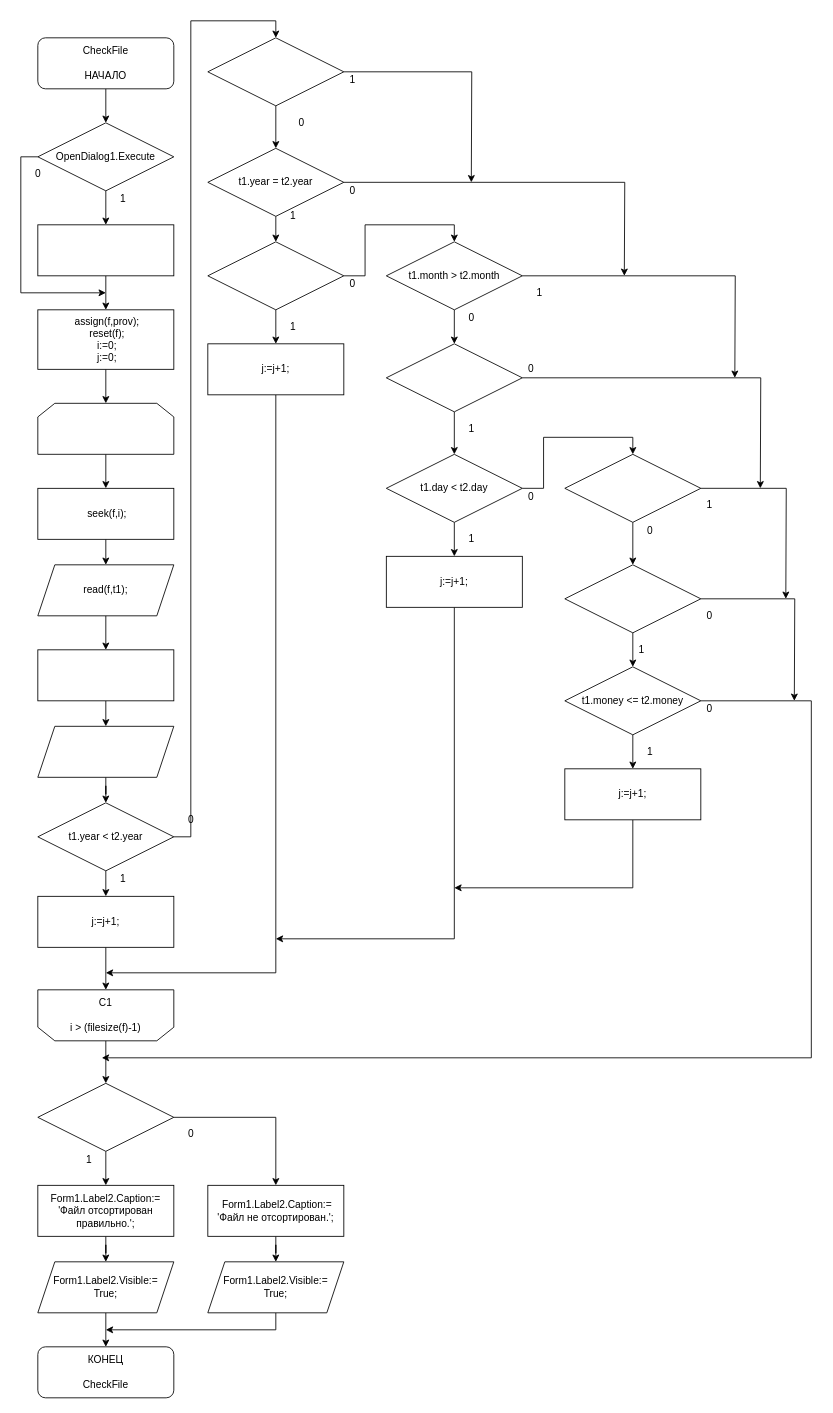
This 833x1413 diagram has some shape labels left out. Here are the shapes that lost their labels. From the top down, the centre of each, then its label:
At point (275, 71): "t1.year > t2.year".
At point (105, 250): "prov:= OpenDialog1.FileName;".
At point (275, 275): "t1.month < t2.month".
At point (453, 377): "t1.month = t2.month".
At point (105, 428): "C1".
At point (632, 487): "t1.day > t2.day".
At point (632, 598): "t1.day = t2.day".
At point (105, 675): "i:=i+1; seek(f,i);".
At point (105, 751): "read(f,t2);".
At point (105, 1116): "j=(filesize(f)-1)".
